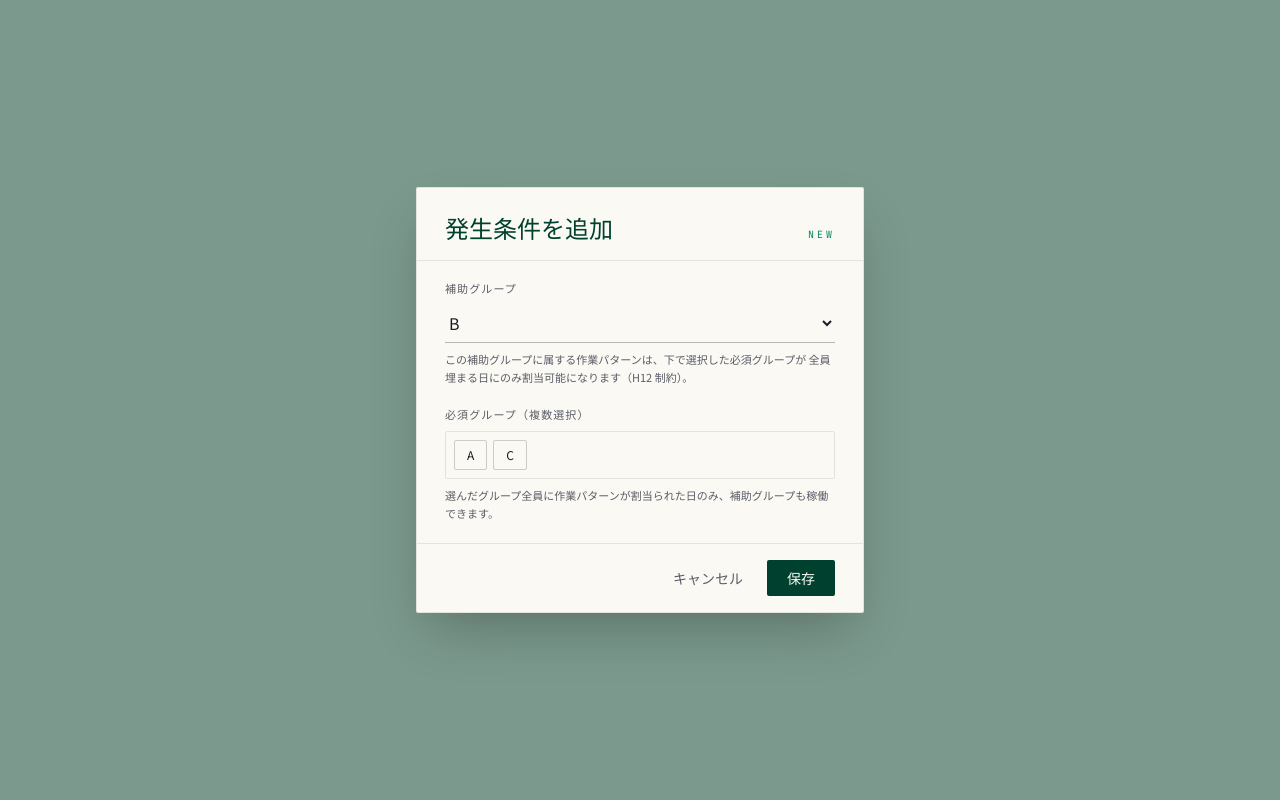
it: PatternTriggerFormModal — create mode › rejects submit when no required group is selected
The width and height of the screenshot is (1280, 800).
Click the button "保存". click: (801, 578)
box: [767,560,835,596]
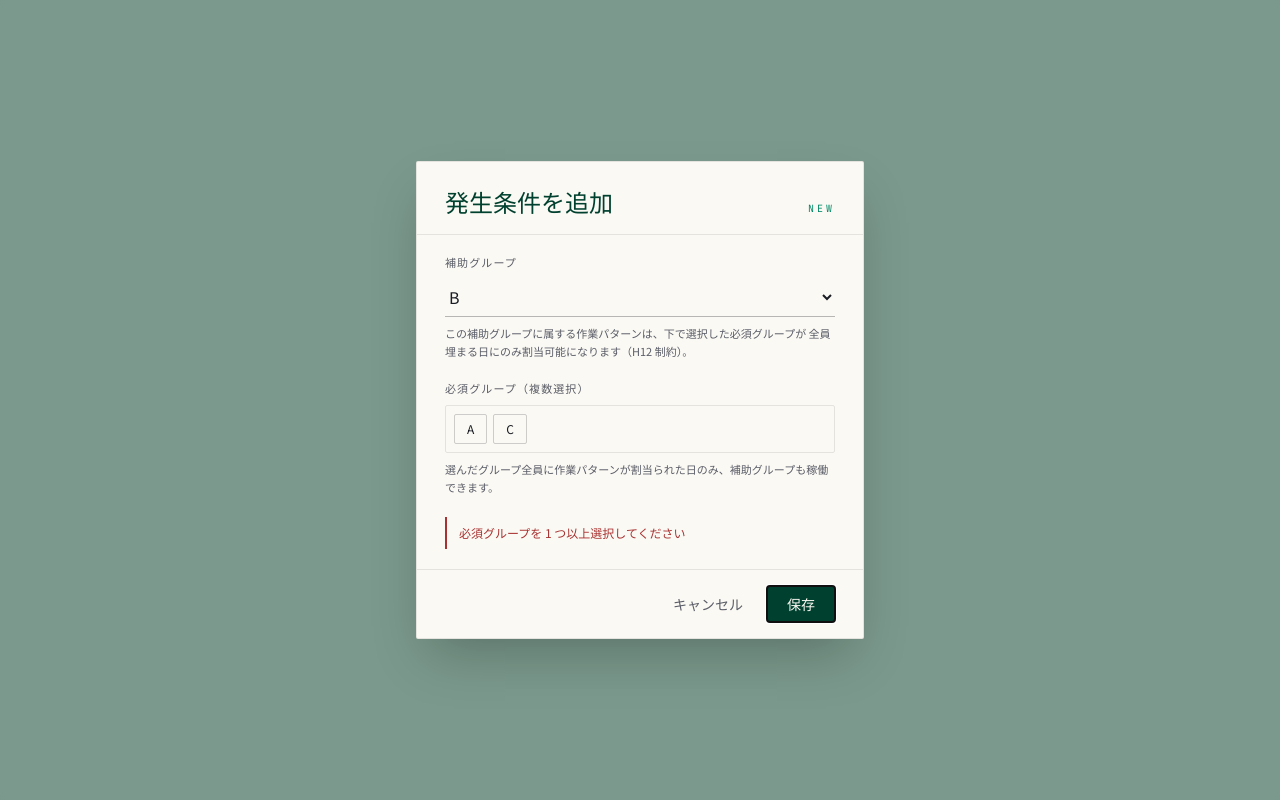
Check: the text "必須グループを 1 つ以上選択してください" is shown, box [445,517,835,549]
